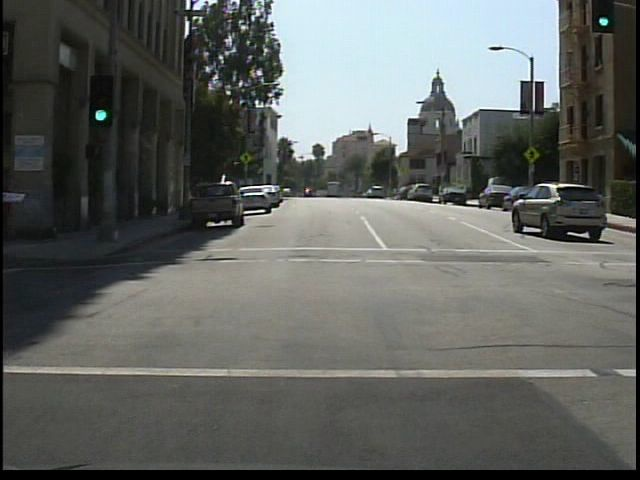person: (2, 160, 12, 249)
